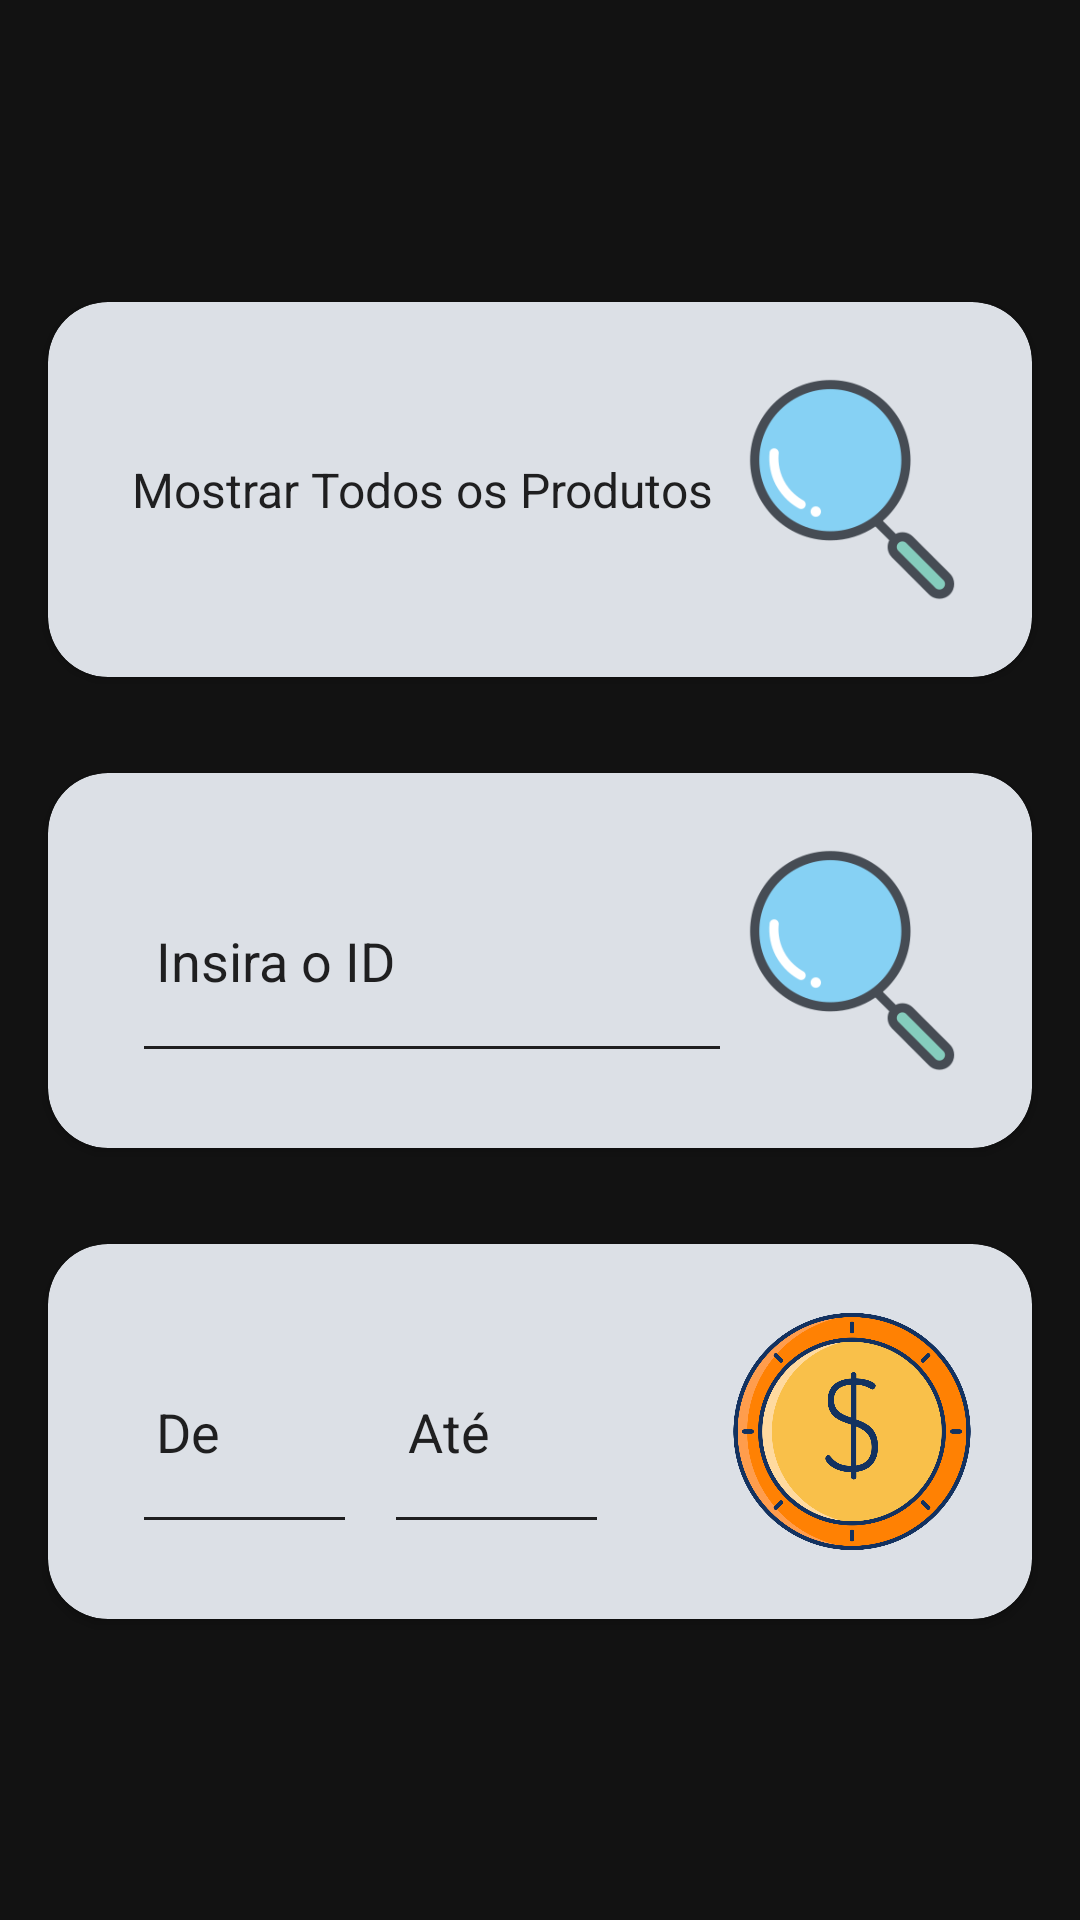

Locate icon controls on the screen. Image size 1080px×1920px, boxes as bbox(x1, y1, x2, y2).
pesquisa: bbox(750, 380, 954, 599), bbox(750, 851, 955, 1070)
